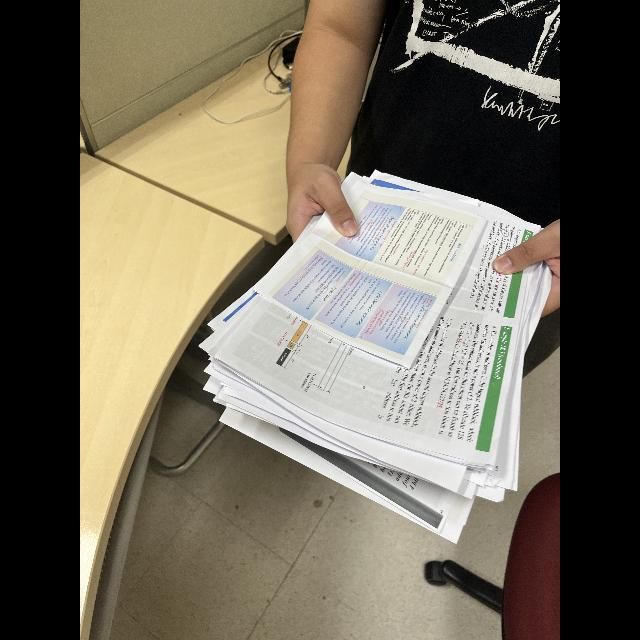reuseable_paper: (186, 165, 560, 541)
